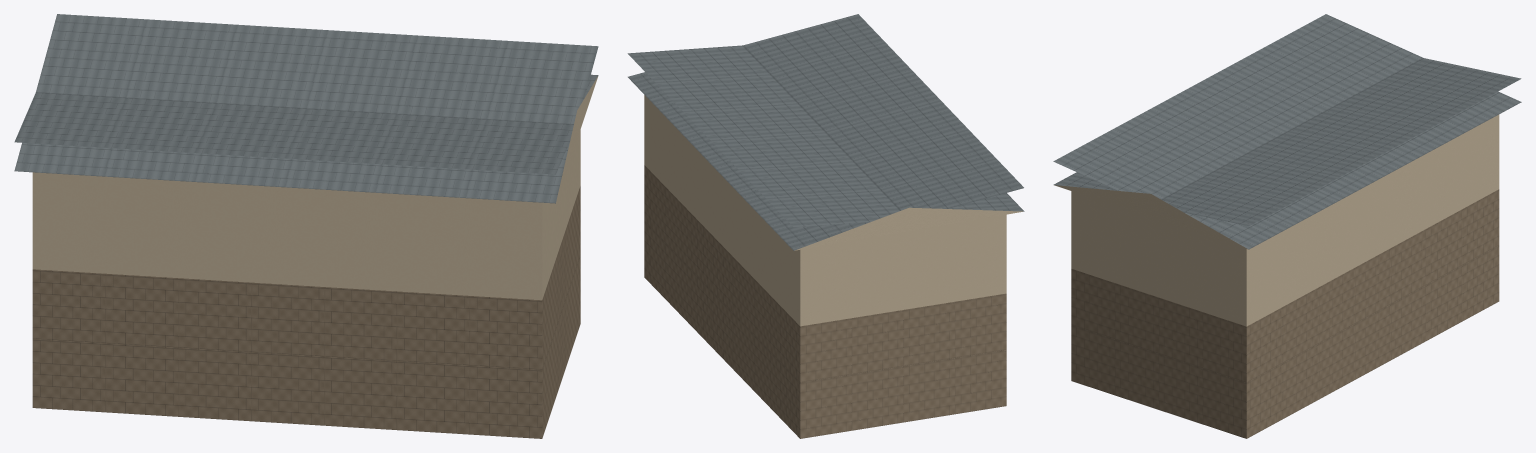
File: bld_c9_42_508.gltf
3 views of the same model, side by side, from view 1: azimuth 30°, elevation 25°; view 2: azimuth 150°, elevation 25°; view 3: azimuth 270°, elevation 25° (orthographic). The views are drawn at different scales.
Parts seen in each view (by area): view 1: bld_c9_42_508; view 2: bld_c9_42_508; view 3: bld_c9_42_508.
Part boxes in pixels (left/top/right/bottom): bld_c9_42_508: left=14, top=14, right=598, bottom=438; bld_c9_42_508: left=627, top=14, right=1024, bottom=438; bld_c9_42_508: left=1053, top=14, right=1521, bottom=438.
Size of the model in its own units: 19.41 by 9.4 by 18.12.
Materials: 4 (4 with a texture image).
